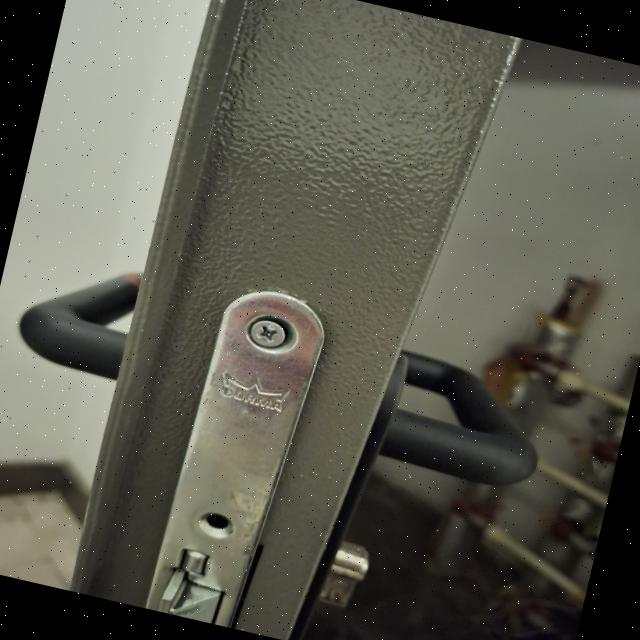Phillips: (243, 316, 292, 354)
